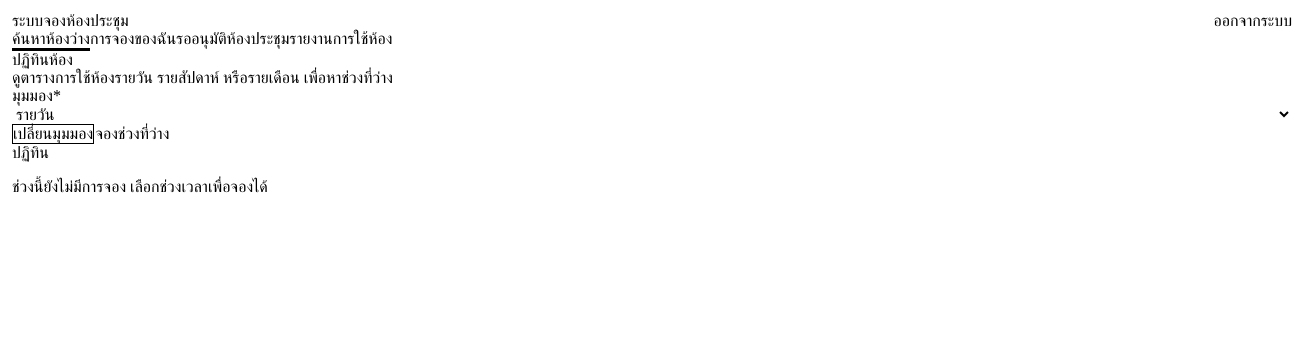
Scenario: FE-mrr-002 room calendar page › book-slot: opens the booking form for this room and day
expect the text "ช่วงนี้ยังไม่มีการจอง เลือกช่วงเวลาเพื่อจองได้" is shown: met, box top-left (12, 178), bottom-right (268, 195)
Click the button with test id "ui-mrr-005-book-slot" at (132, 134), box top-left (94, 124), bottom-right (170, 144)
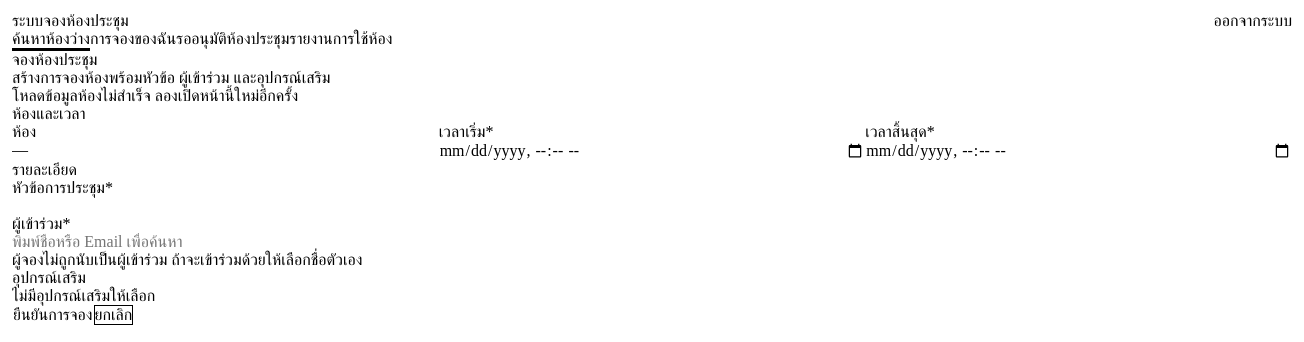
expect the heading "จองห้องประชุม" is shown: met, box top-left (12, 51), bottom-right (98, 68)
